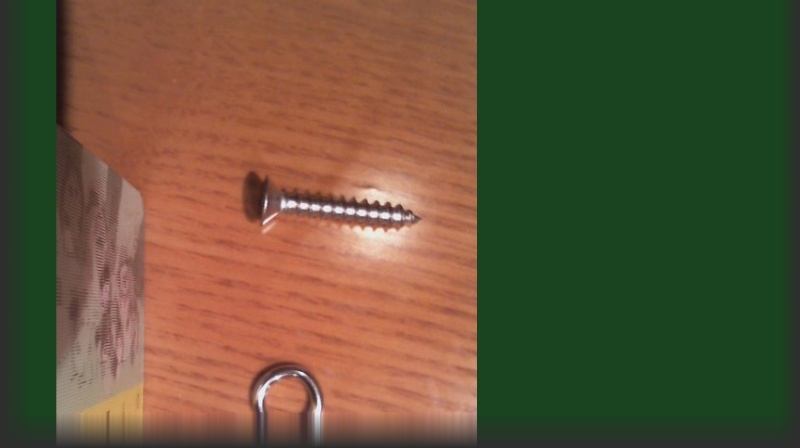O001: (242, 358, 326, 447)
S001: (245, 169, 420, 236)
